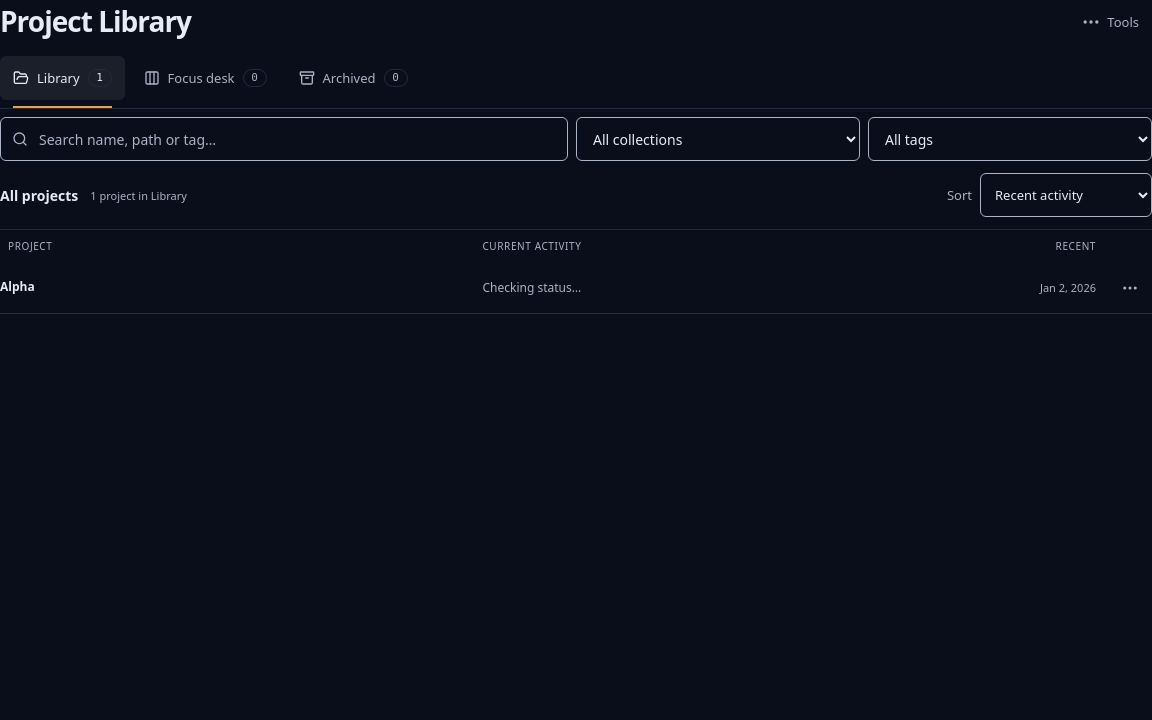
Library organization workflows at the authenticated HTTP boundary › does not claim a conflicting revision was loaded when the refresh also fails
Click the button named "Details and organization for Alpha": (1130, 288) top-left (1108, 266), bottom-right (1151, 310)
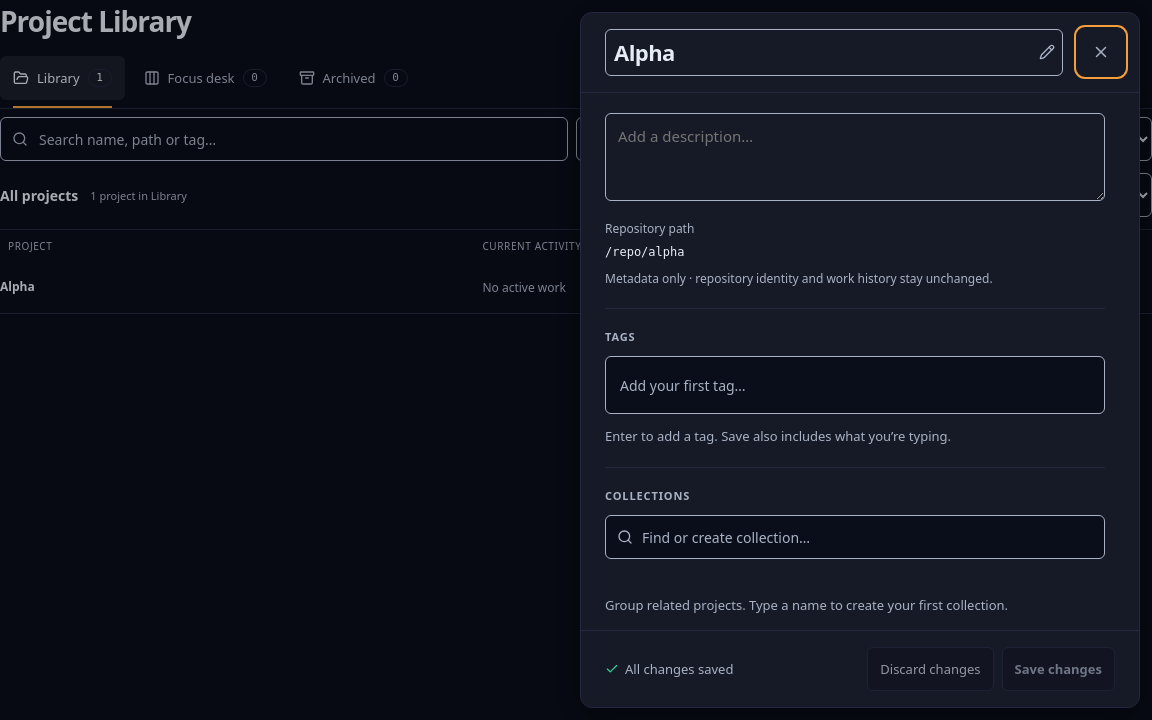
In the text box labelled "description": (855, 157) top-left (605, 113), bottom-right (1105, 201), type "Keep my draft"
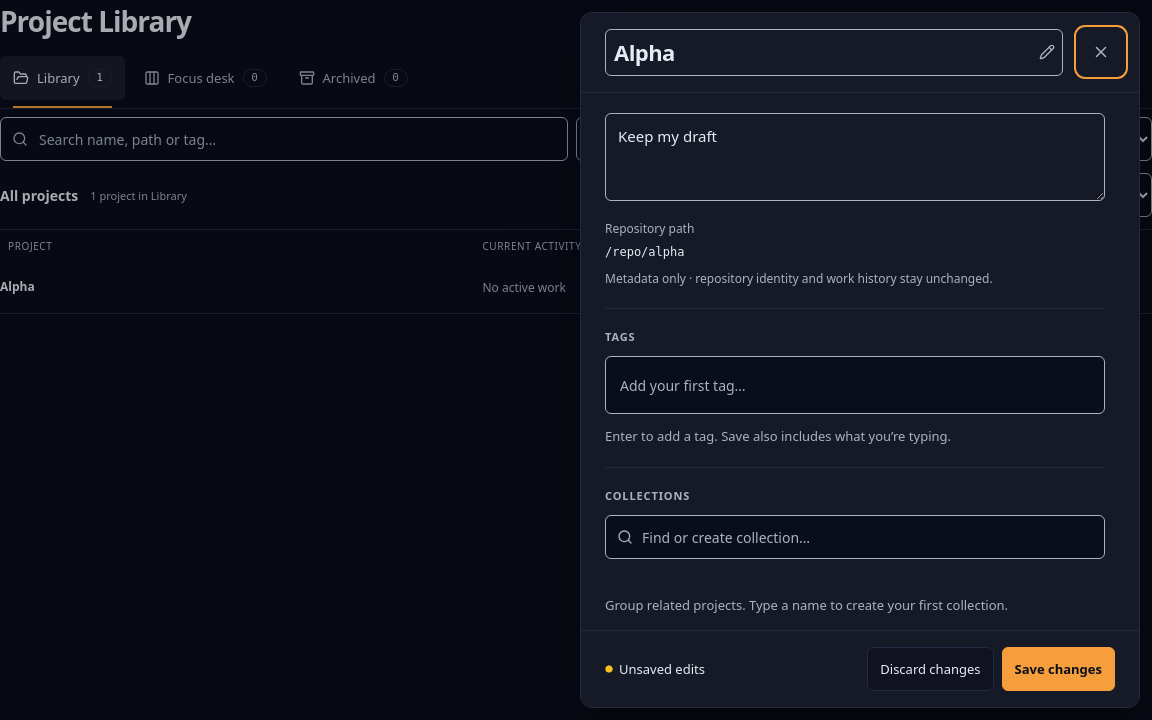
Click the button "Save changes": (1058, 669) top-left (1002, 647), bottom-right (1115, 691)
(page scrolled)
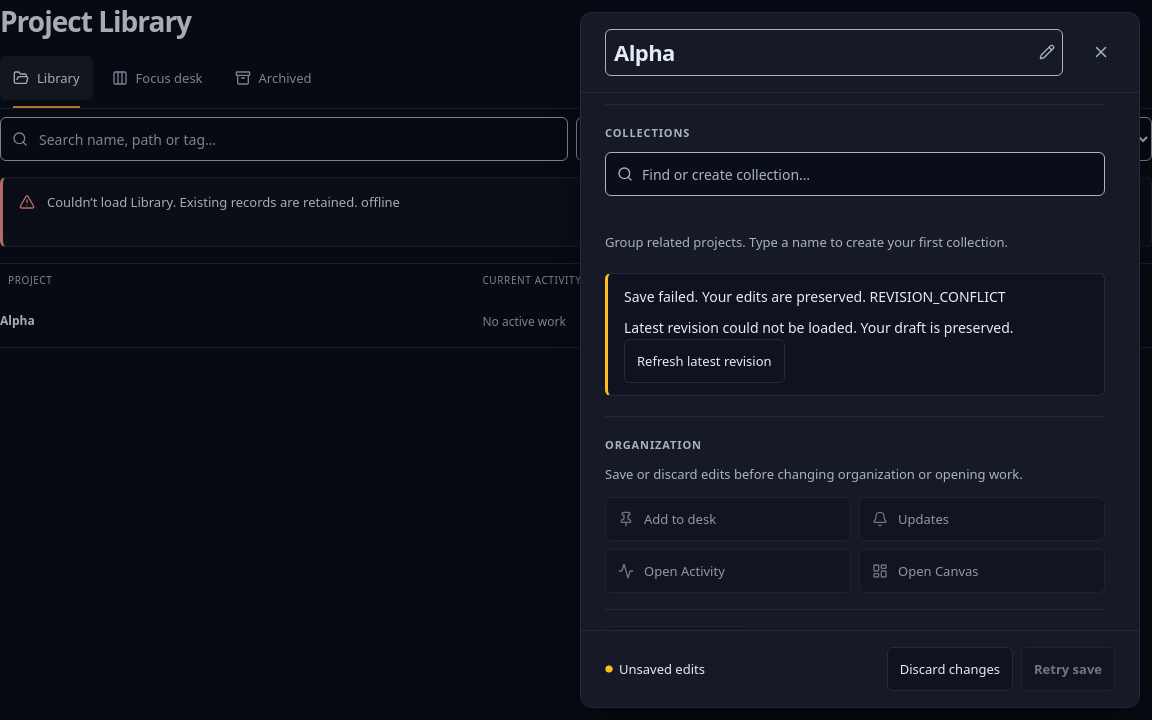
Expected: the text "Latest revision could not be loaded" is shown, top-left (624, 318), bottom-right (1014, 336)
Expected: the button "Retry save" is disabled, top-left (1021, 647), bottom-right (1115, 691)
Click the button "Refresh latest revision": (704, 361) top-left (624, 339), bottom-right (785, 383)
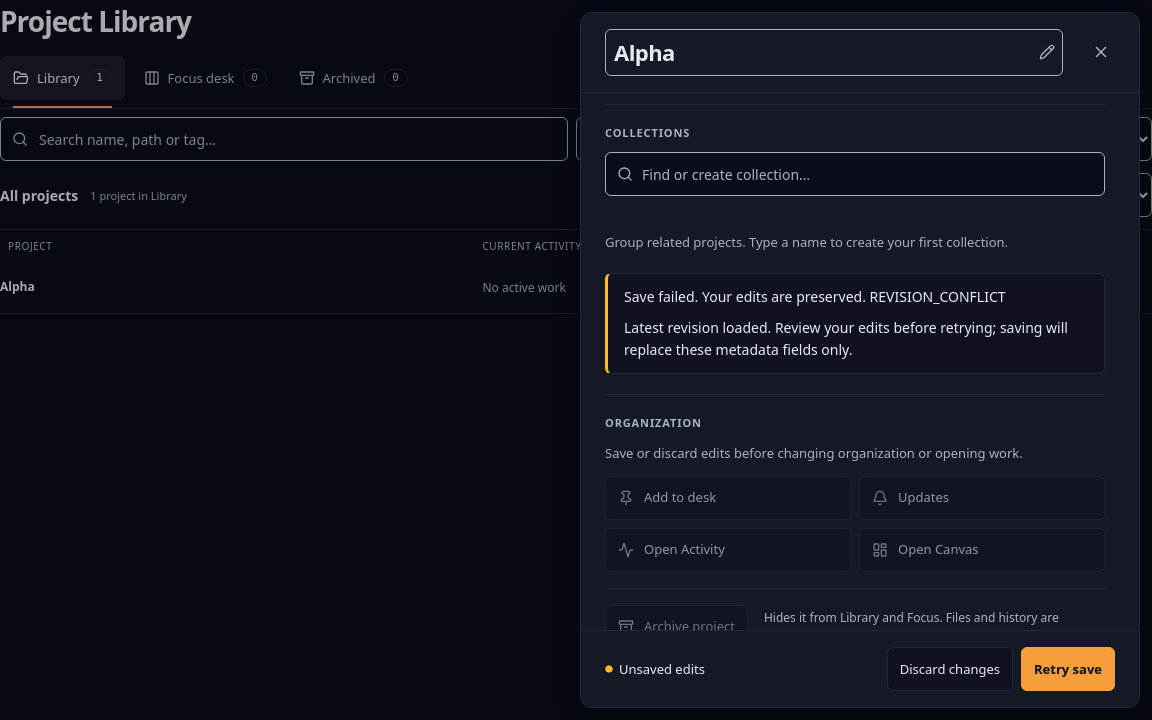
Expected: the text "Latest revision loaded" is shown, top-left (624, 318), bottom-right (1068, 359)
Expected: the button "Retry save" is enabled, top-left (1021, 647), bottom-right (1115, 691)
